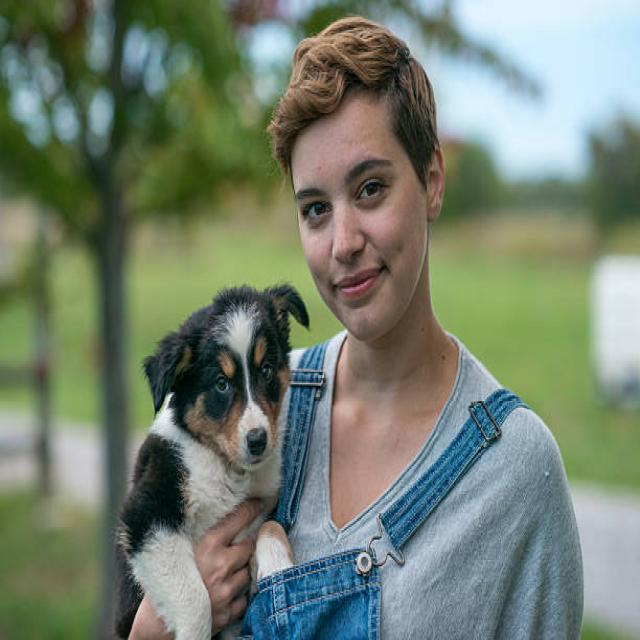BORDER_COLLIE: (112, 262, 304, 640)
